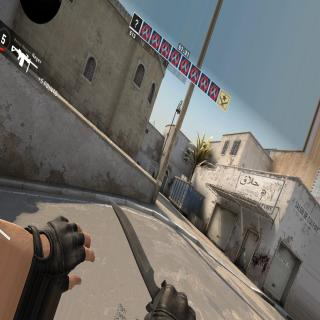CT-Body: (152, 171, 155, 177)
CT-Head: (154, 172, 154, 173)
